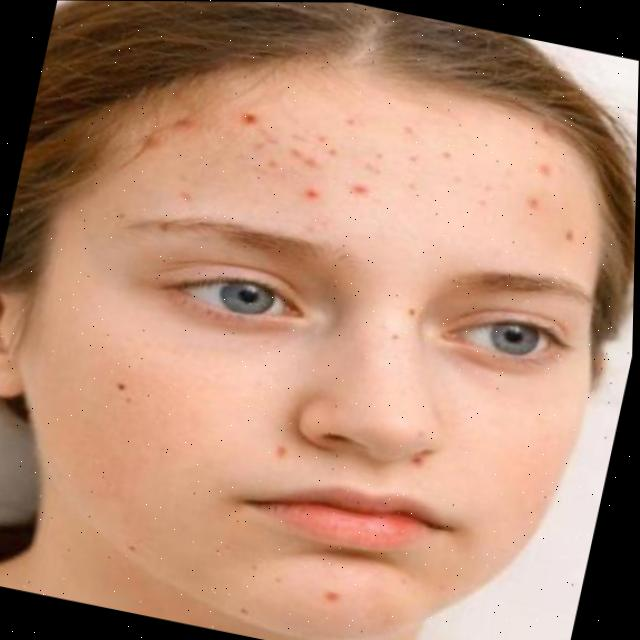Acne: (186, 83, 593, 255)
